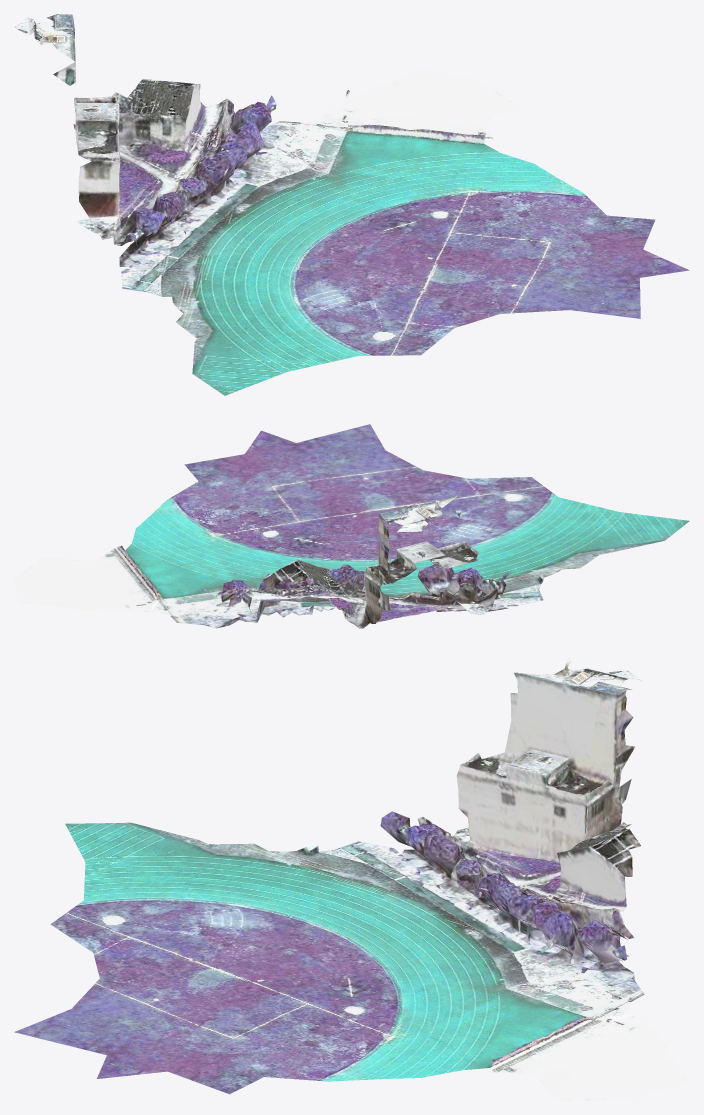
File: Tile_+012_+018_L19_000003.glb
The picture shows the model from 3 angles, top to bottom: view 1: azimuth 30°, elevation 25°; view 2: azimuth 150°, elevation 25°; view 3: azimuth 270°, elevation 25°; orthographic projection. The views are drawn at different scales.
Visible parts, largest first — view 1: rtc; view 2: rtc; view 3: rtc.
Boxes of the visible parts, <box> form: rtc: <box>14,14,689,395</box>; rtc: <box>14,424,689,628</box>; rtc: <box>14,657,689,1100</box>.
Size of the model in its own units: 66.11 by 22.26 by 68.69.
Materials: 1 (1 with a texture image).
